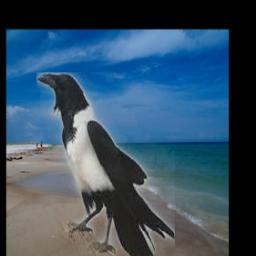Crow: (36, 73, 175, 256)
